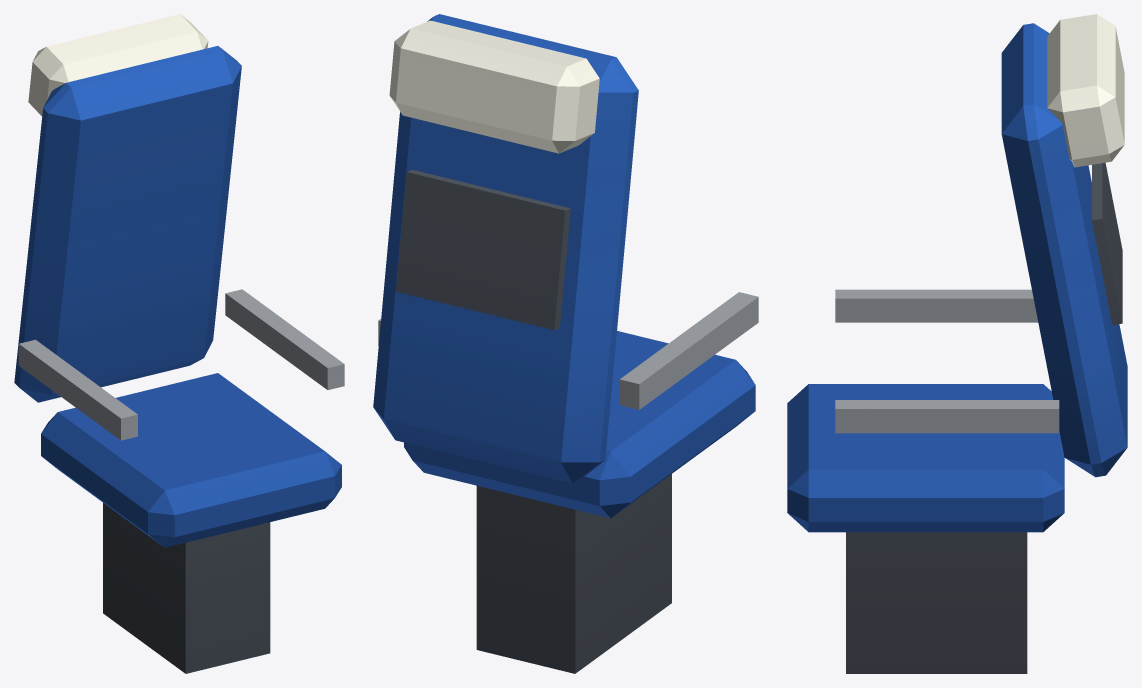
Rendered from Poltrona.glb.
3 renders of one model, left to right at view 1: azimuth 30°, elevation 25°; view 2: azimuth 150°, elevation 25°; view 3: azimuth 270°, elevation 25°, orthographic. The views are drawn at different scales.
Visible parts, largest first — view 1: Poltrona_Malha; view 2: Poltrona_Malha; view 3: Poltrona_Malha.
Boxes of the visible parts, x1,y1,x2,y2 form: Poltrona_Malha: [14, 14, 344, 673]; Poltrona_Malha: [373, 14, 758, 673]; Poltrona_Malha: [787, 14, 1127, 673].
Size of the model in its own units: 0.53 by 1.24 by 0.6381.
Materials: 1 (1 with a texture image).
